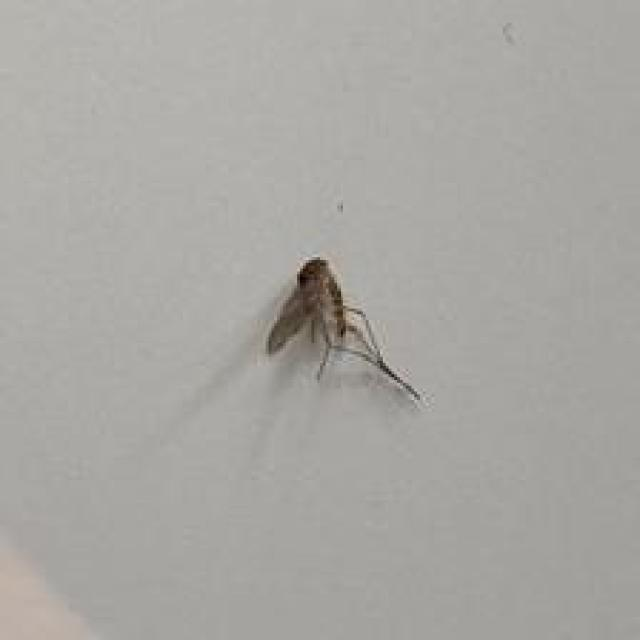Culex: (264, 254, 422, 403)
